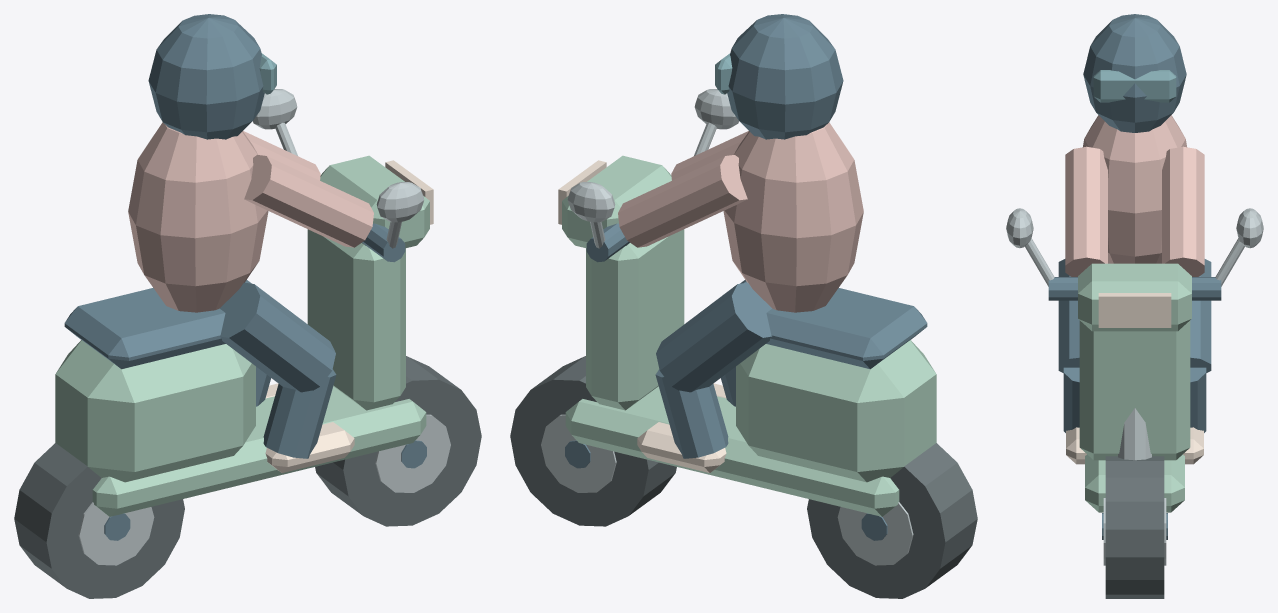
File: scooter-rider.glb
3 views of the same model, side by side, from view 1: azimuth 30°, elevation 25°; view 2: azimuth 150°, elevation 25°; view 3: azimuth 270°, elevation 25° (orthographic). The views are drawn at different scales.
Parts seen in each view (by area): view 1: scooter-rider_tire; view 2: scooter-rider_tire; view 3: scooter-rider_tire.
Part boxes in pixels (x1,y1,x2,y2): scooter-rider_tire: (14,14,481,598); scooter-rider_tire: (510,14,977,598); scooter-rider_tire: (1006,14,1263,598).
Size of the model in its own units: 1.32 by 1.57 by 0.7469.
Materials: 1 (1 with a texture image).
